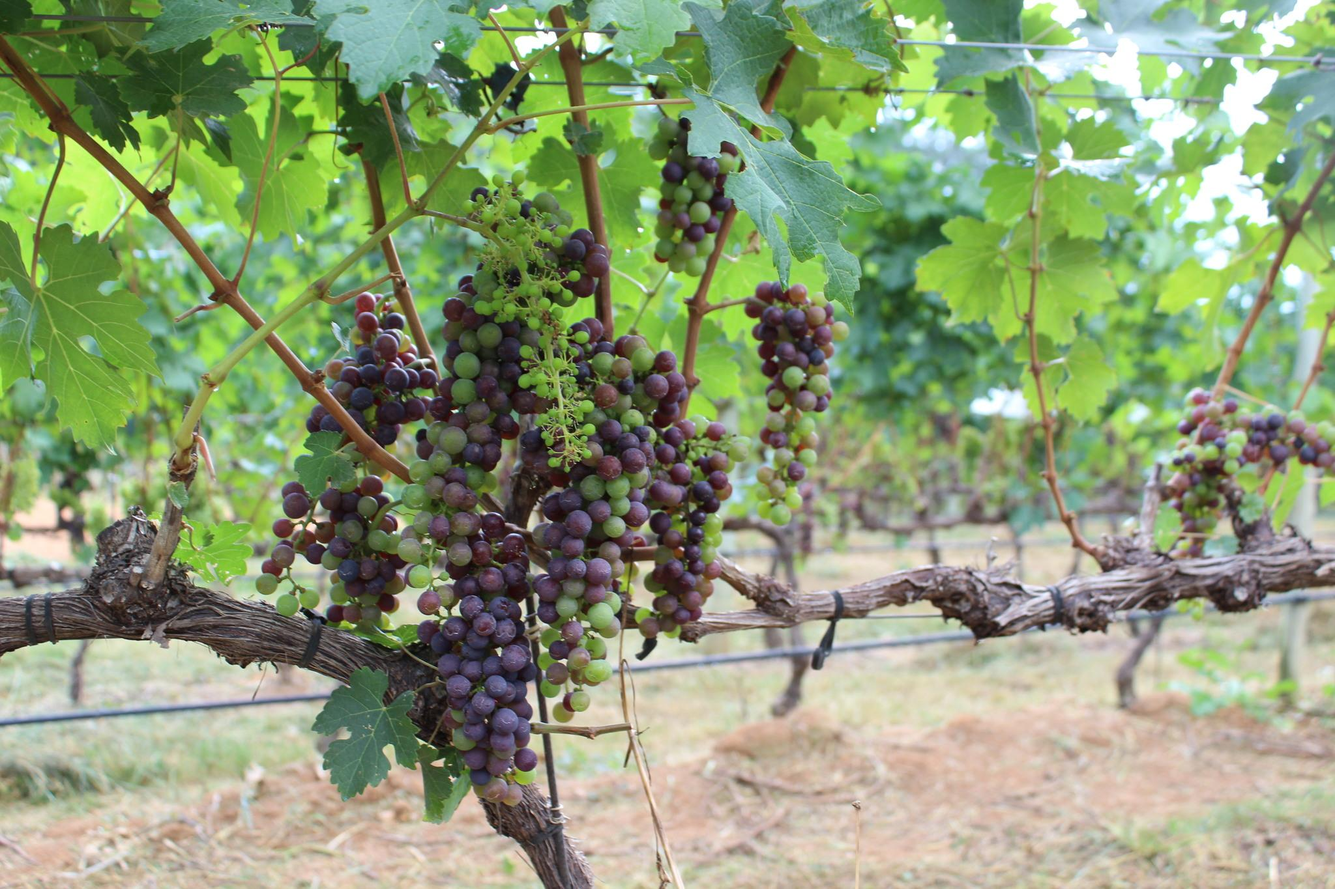Grape Ripe: (415, 532, 540, 807)
